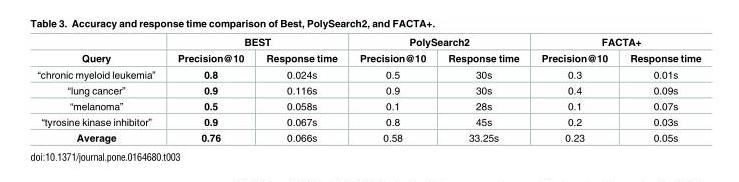table: (36, 37, 700, 143)
table column: (36, 37, 165, 143), (254, 37, 347, 143), (436, 37, 529, 143), (165, 37, 254, 143), (347, 37, 436, 143), (529, 37, 618, 143), (618, 37, 700, 143)
table column header: (36, 37, 700, 66)
table row: (36, 50, 700, 66), (36, 66, 700, 82), (36, 82, 700, 98), (36, 98, 700, 114), (36, 114, 700, 130), (36, 37, 700, 50), (36, 130, 700, 143)
table spanning cell: (36, 37, 165, 66), (165, 37, 347, 50), (347, 37, 529, 50), (529, 37, 700, 50)
